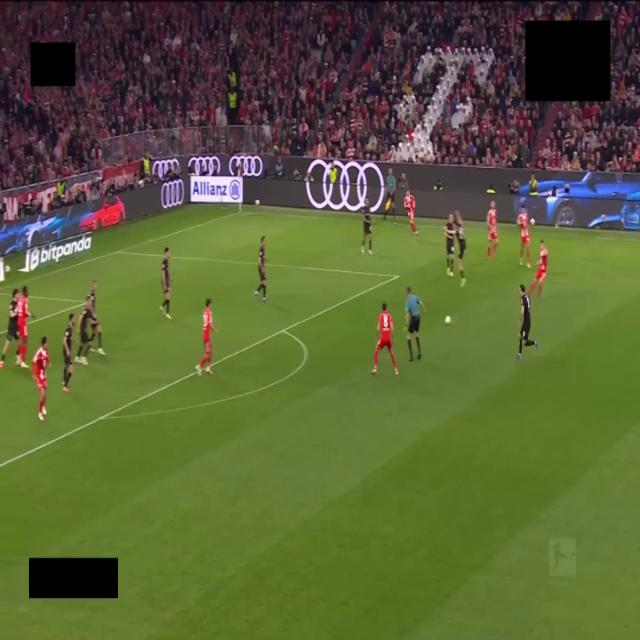ball: (445, 316, 451, 325)
player: (372, 303, 398, 375), (31, 337, 51, 421), (517, 285, 538, 359), (196, 298, 216, 375), (0, 288, 19, 368), (16, 285, 34, 368), (75, 296, 95, 365), (89, 280, 105, 355), (529, 240, 547, 301), (63, 313, 74, 391), (517, 205, 530, 268), (160, 247, 171, 319), (444, 214, 456, 277), (455, 211, 465, 286), (255, 236, 266, 303), (487, 201, 498, 259), (404, 190, 417, 238), (361, 199, 372, 255)
referee: (406, 287, 424, 360)
